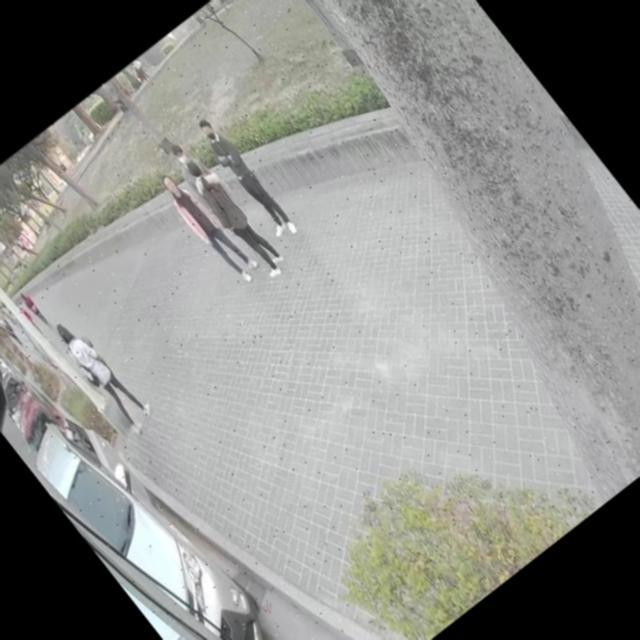person: (190, 112, 300, 244), (50, 310, 159, 438), (156, 163, 264, 288), (185, 153, 288, 275), (165, 139, 217, 196), (16, 289, 54, 332)
